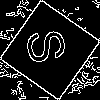S: (25, 25, 76, 66)
